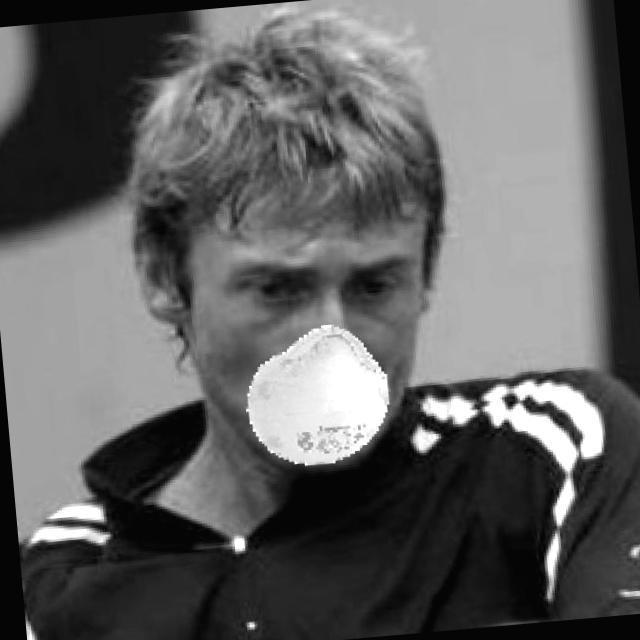no_gloves: (138, 24, 462, 298)
